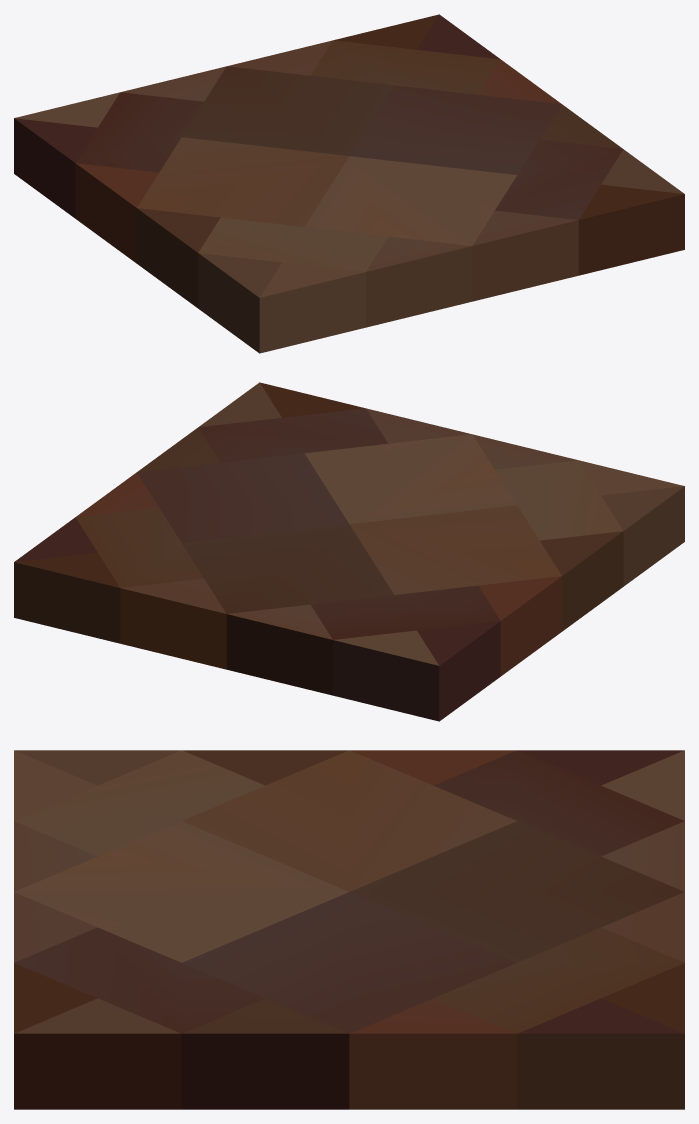
File: Floor_PatternA.fbx
3 views of the same model, one above another, from view 1: azimuth 30°, elevation 25°; view 2: azimuth 150°, elevation 25°; view 3: azimuth 270°, elevation 25° (orthographic). The views are drawn at different scales.
Visible parts, largest first — view 1: Floor_PatternA; view 2: Floor_PatternA; view 3: Floor_PatternA.
Part boxes in pixels (x1,y1,x2,y2): Floor_PatternA: (14,14,684,353); Floor_PatternA: (14,382,684,721); Floor_PatternA: (14,750,684,1109).
Bounding box in the file's own units: 200 × 25 × 200.
